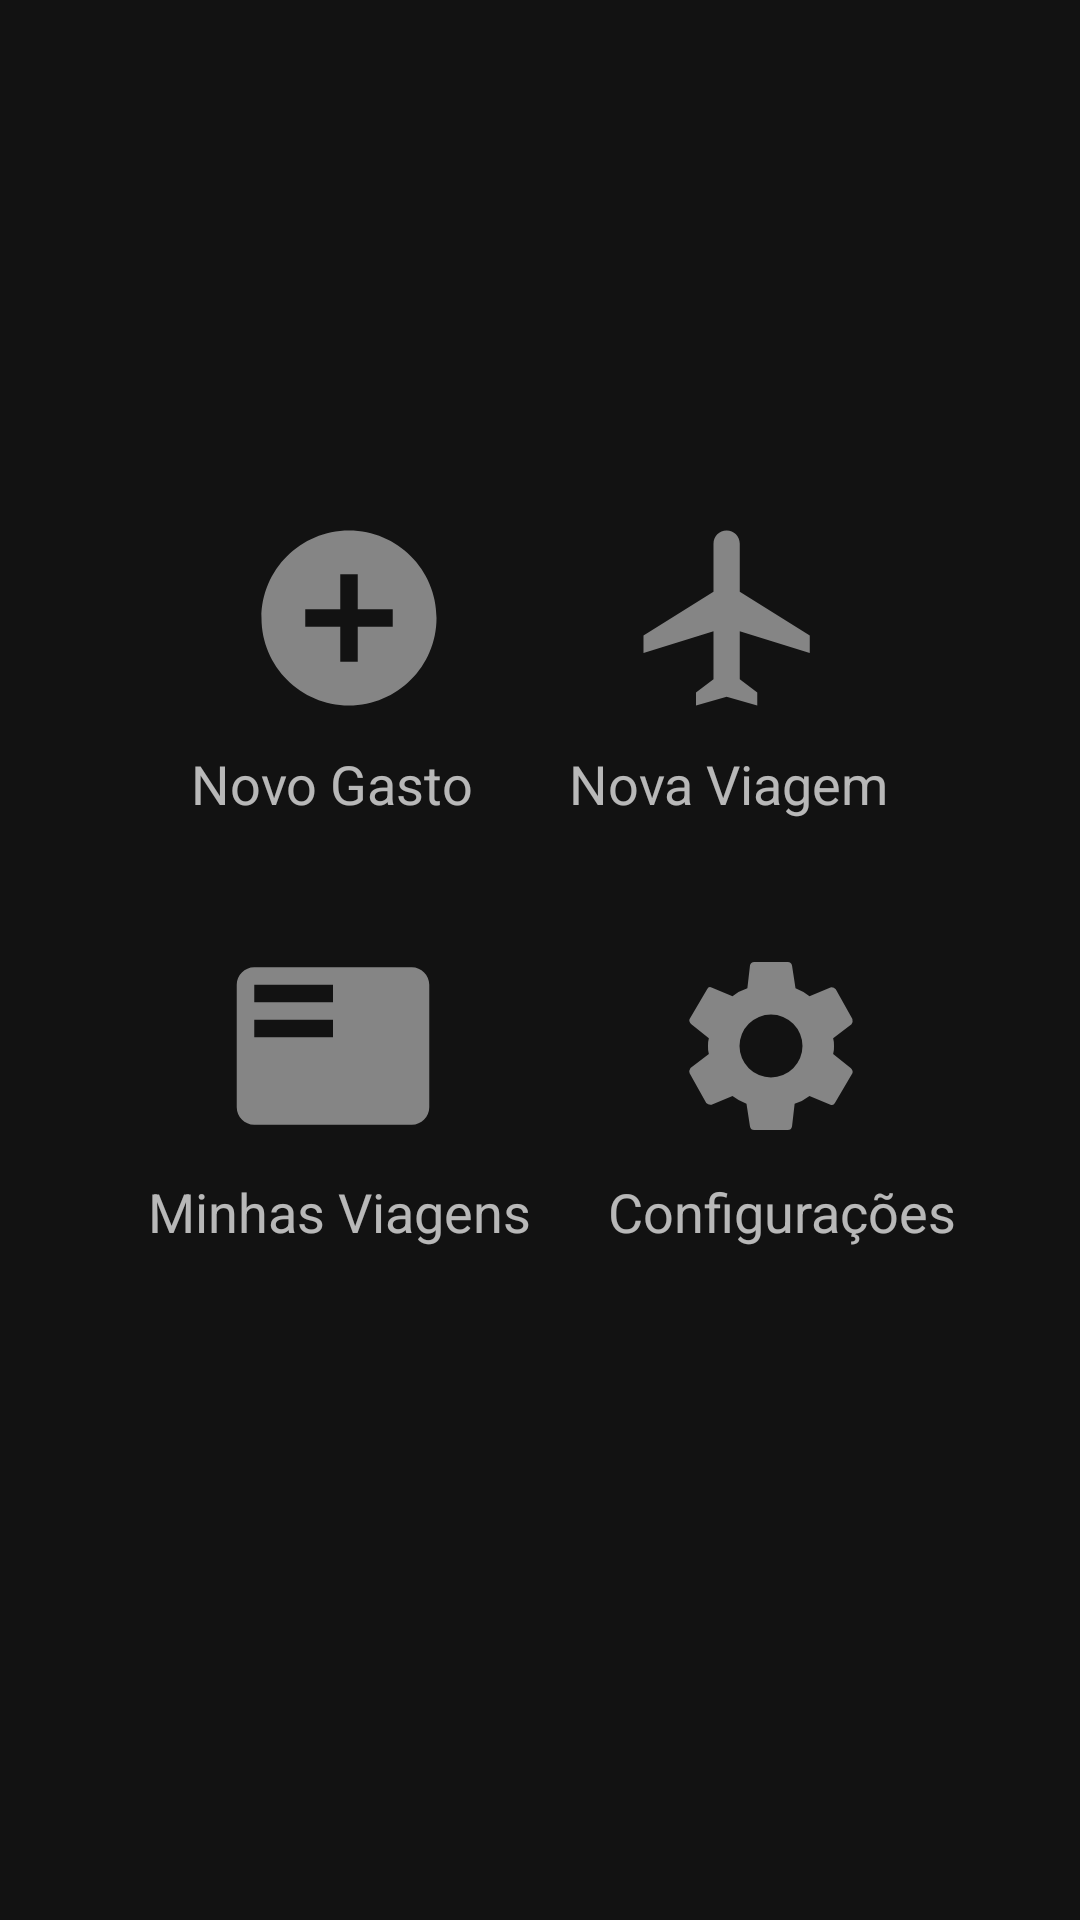

Named icons in this screenshot (1080 x 1920) and their bounding boxes, (x1, y1, x2, y2):
add circle: (261, 530, 437, 706)
featured play list: (236, 967, 430, 1125)
flight: (643, 530, 810, 706)
settings: (689, 962, 853, 1130)
